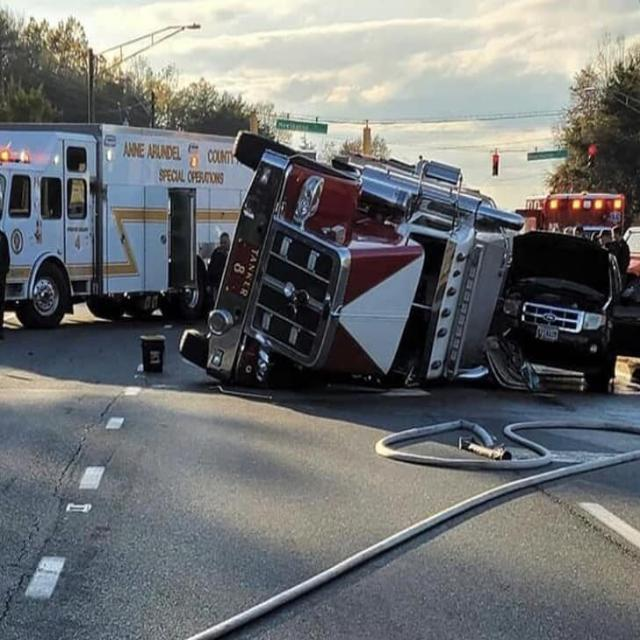accident: (180, 133, 522, 384), (486, 231, 640, 392)
truck: (0, 124, 250, 325)
